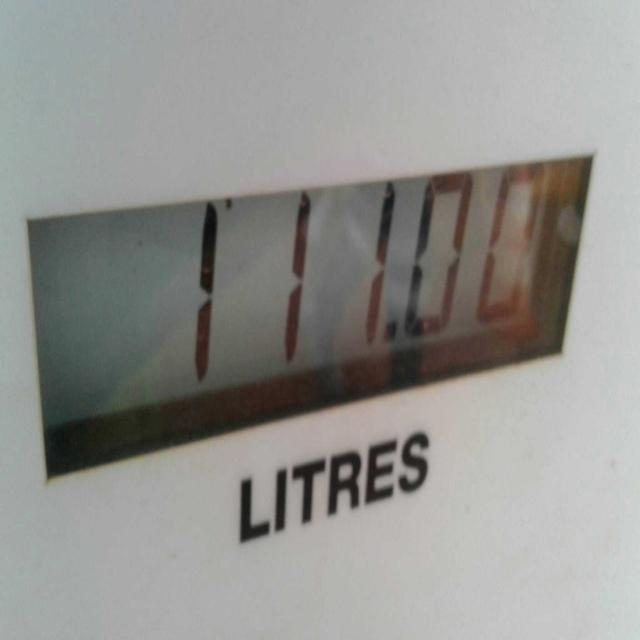.: (391, 325, 401, 343)
0: (411, 174, 478, 366), (491, 167, 540, 339)
1: (284, 193, 309, 354), (371, 177, 388, 363), (199, 204, 216, 376)
